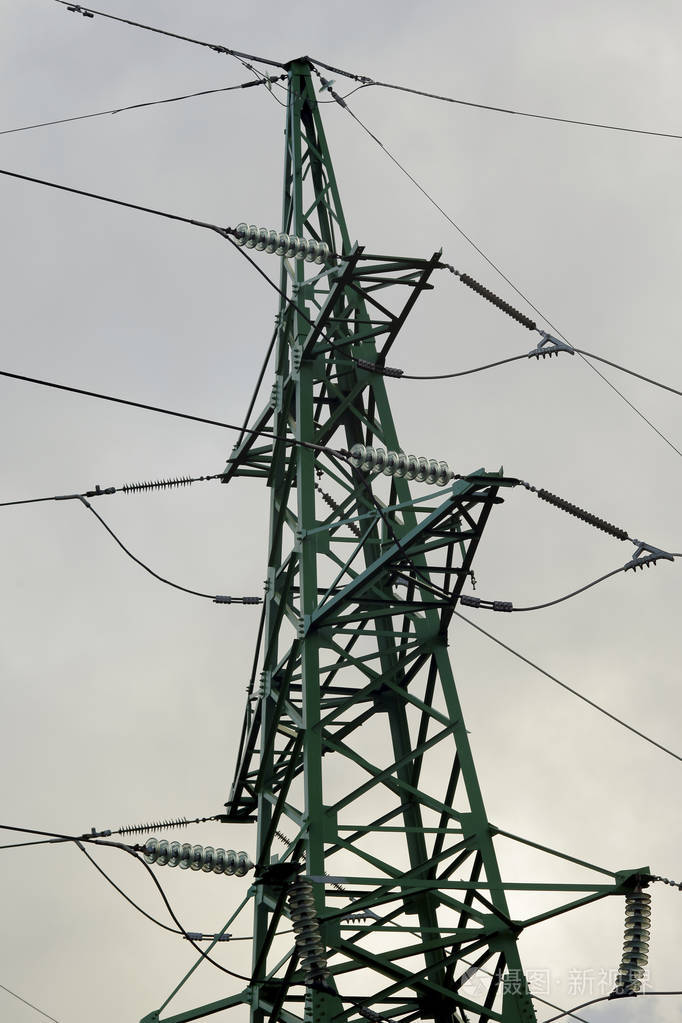insulator: (139, 836, 249, 882), (286, 882, 334, 987), (344, 446, 454, 485), (230, 220, 329, 262), (611, 891, 651, 994)
